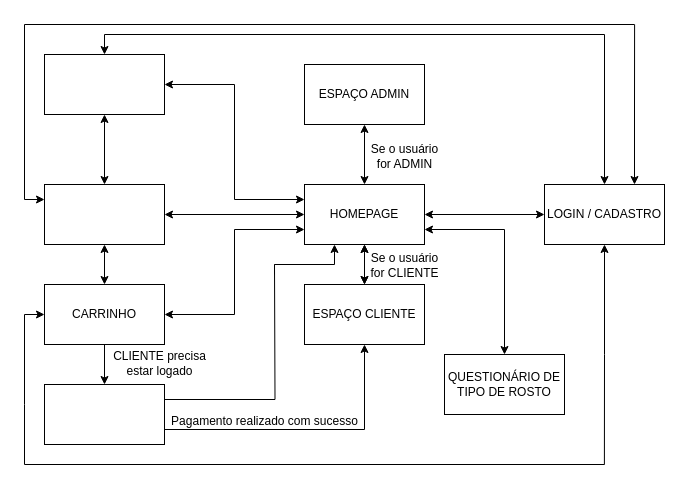
Image size: 682x490. Some labels were removed from this diagram. Each missing label, with the box of its shape:
PAGAMENTO: (44, 384, 164, 444)
PÁGINA DE PRODUTOS: (44, 184, 164, 244)
SEÇÃO DE UM PRODUTO: (44, 54, 164, 114)
